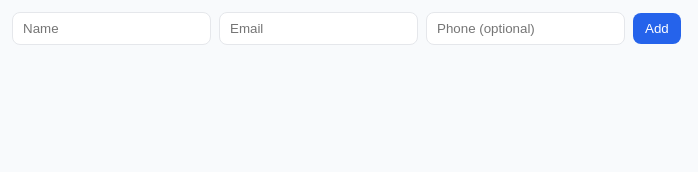
ContactForm › should validate phone format
Type "Test User" into the field with placeholder "Name".
click(112, 28); type("Test User")  # box left=12, top=12, right=211, bottom=45
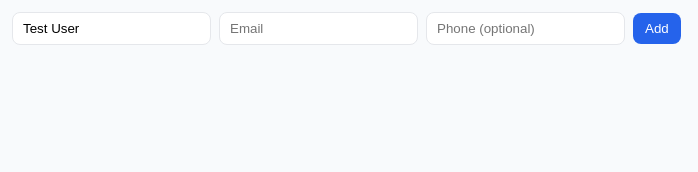
Type "test@example.com" into the field with placeholder "Email".
click(318, 28); type("test@example.com")  # box left=219, top=12, right=418, bottom=45
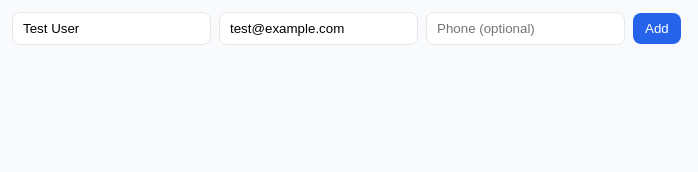
Type "invalid-phone" into the field with placeholder "Phone (optional)".
click(526, 28); type("invalid-phone")  # box left=426, top=12, right=625, bottom=45
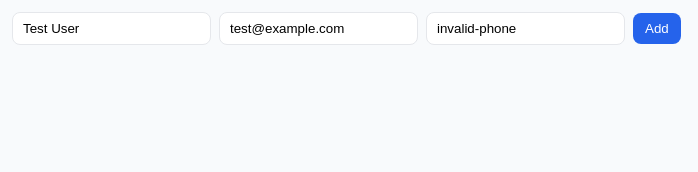
Click the button "Add".
click(657, 28)  # box left=633, top=13, right=681, bottom=44
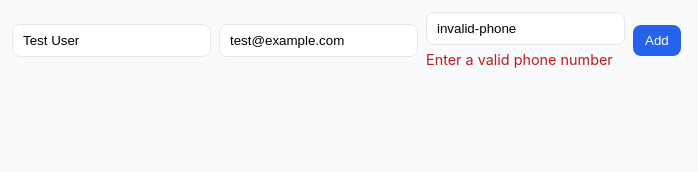
Now the text "Enter a valid phone number" is shown, box left=426, top=51, right=625, bottom=68
